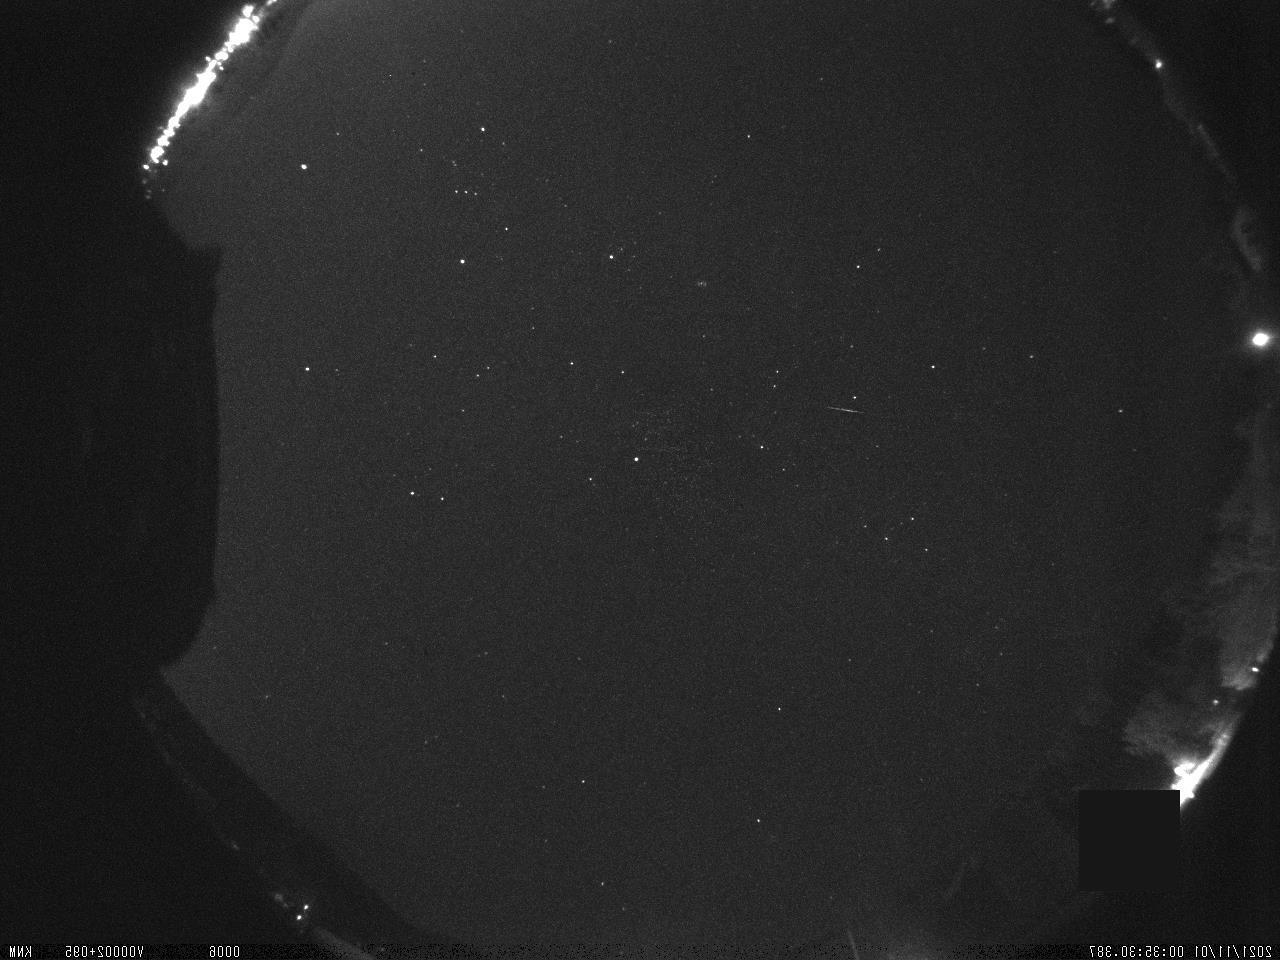meteor: (812, 389, 895, 432)
